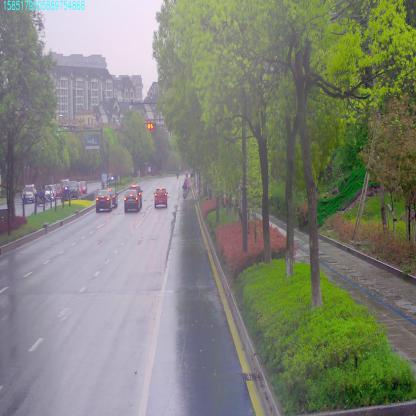traffic-light: (147, 121, 156, 130)
